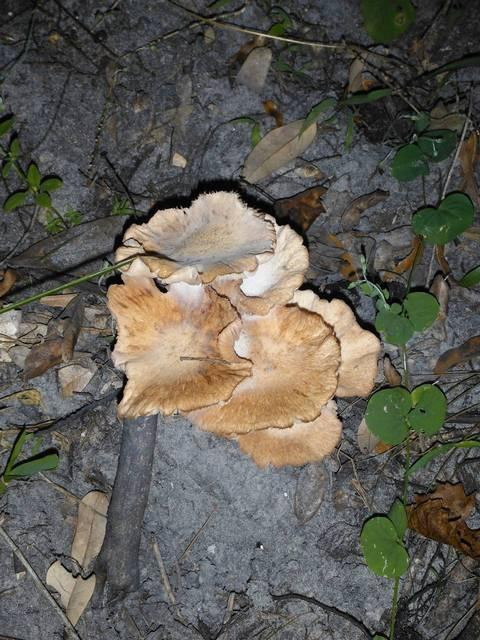edible_mushroom: (109, 184, 379, 468)
